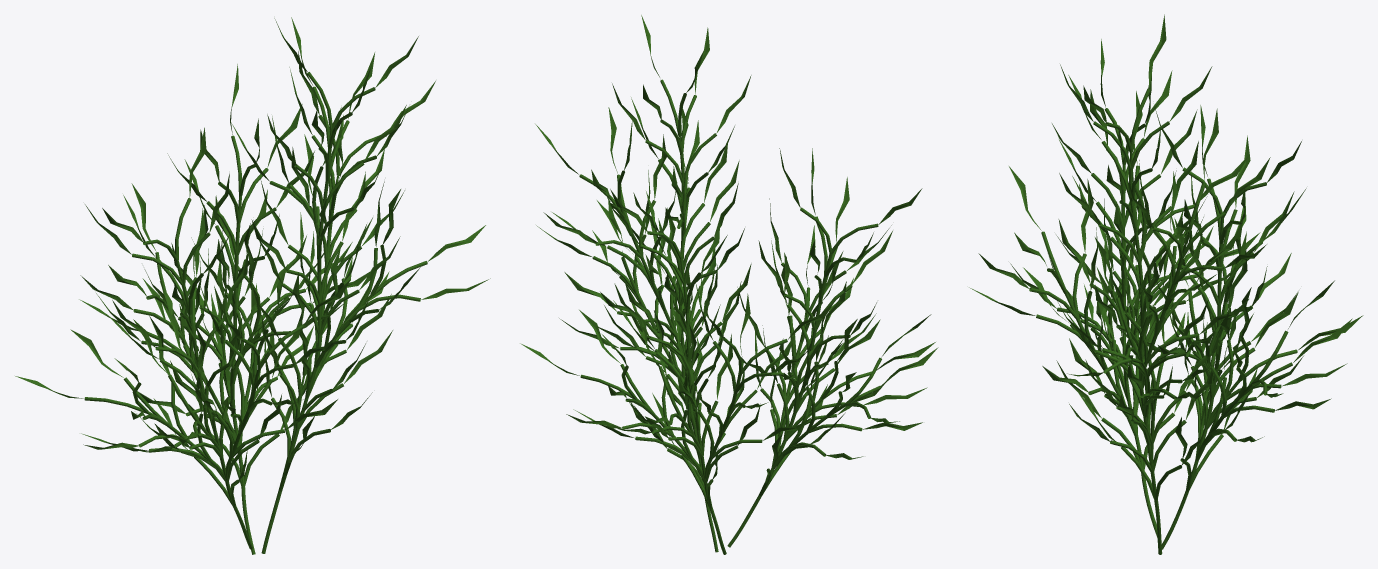
The model's file is plant6.obj.
3 renders of one model, left to right at view 1: azimuth 30°, elevation 25°; view 2: azimuth 150°, elevation 25°; view 3: azimuth 270°, elevation 25°, orthographic. The views are drawn at different scales.
Parts seen in each view (by area): view 1: aquatic09; view 2: aquatic09; view 3: aquatic09.
Part boxes in pixels (x1,y1,x2,y2): aquatic09: (15,17,490,554); aquatic09: (520,15,938,554); aquatic09: (969,14,1363,554).
Size of the model in its own units: 5.26 by 6.22 by 4.09.
